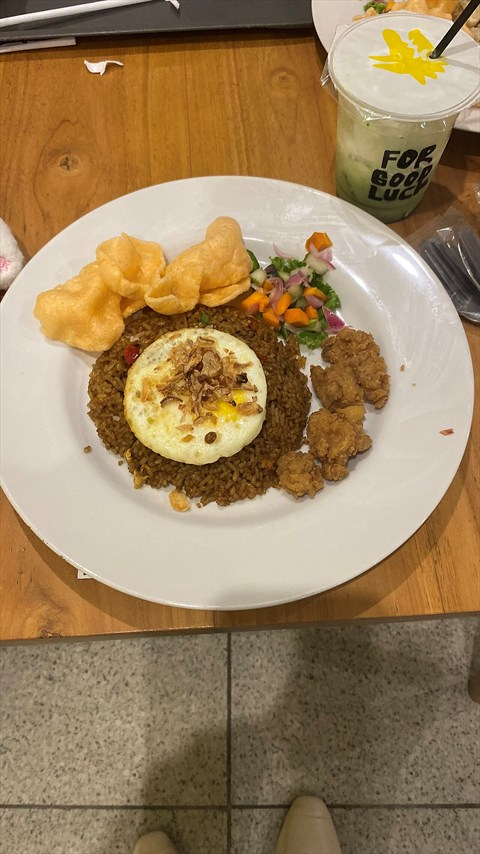Nasi Goreng: (46, 27, 431, 621)
